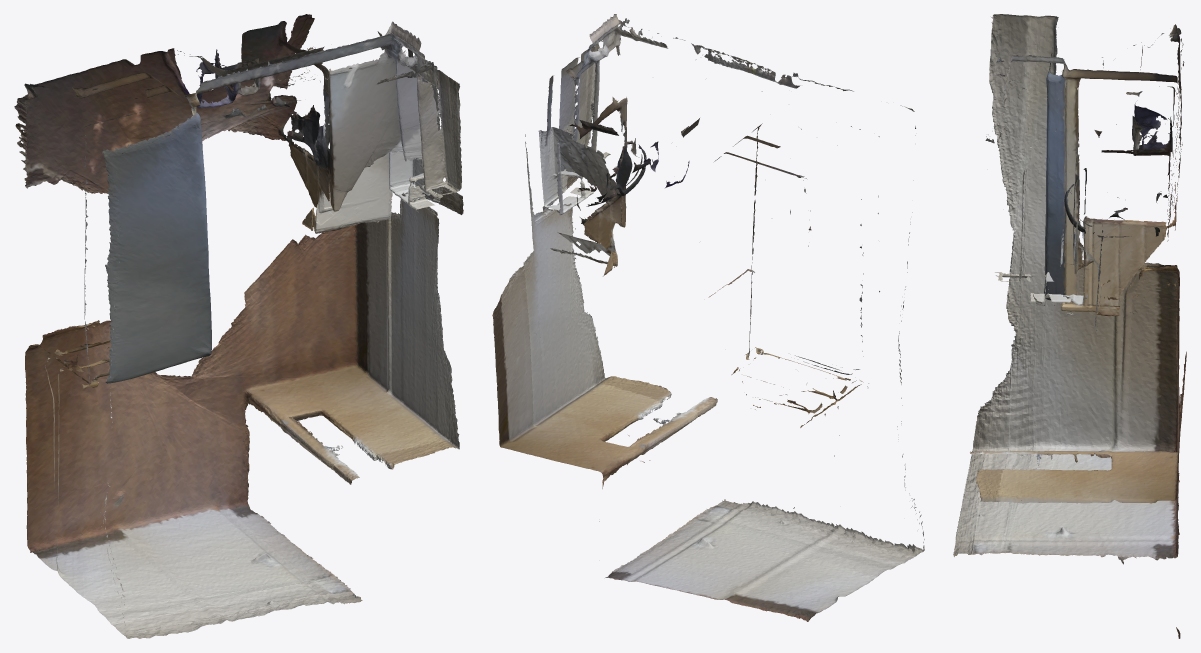
The picture shows the model from 3 angles, left to right: view 1: azimuth 30°, elevation 25°; view 2: azimuth 150°, elevation 25°; view 3: azimuth 270°, elevation 25°; orthographic projection. The views are drawn at different scales.
Parts seen in each view (by area): view 1: world; view 2: world; view 3: world.
Boxes of the visible parts, left/top/right/bottom form: world: left=14, top=14, right=463, bottom=638; world: left=492, top=14, right=924, bottom=621; world: left=953, top=14, right=1186, bottom=638.
Bounding box in the file's own units: 3.05 × 4.84 × 1.92.
